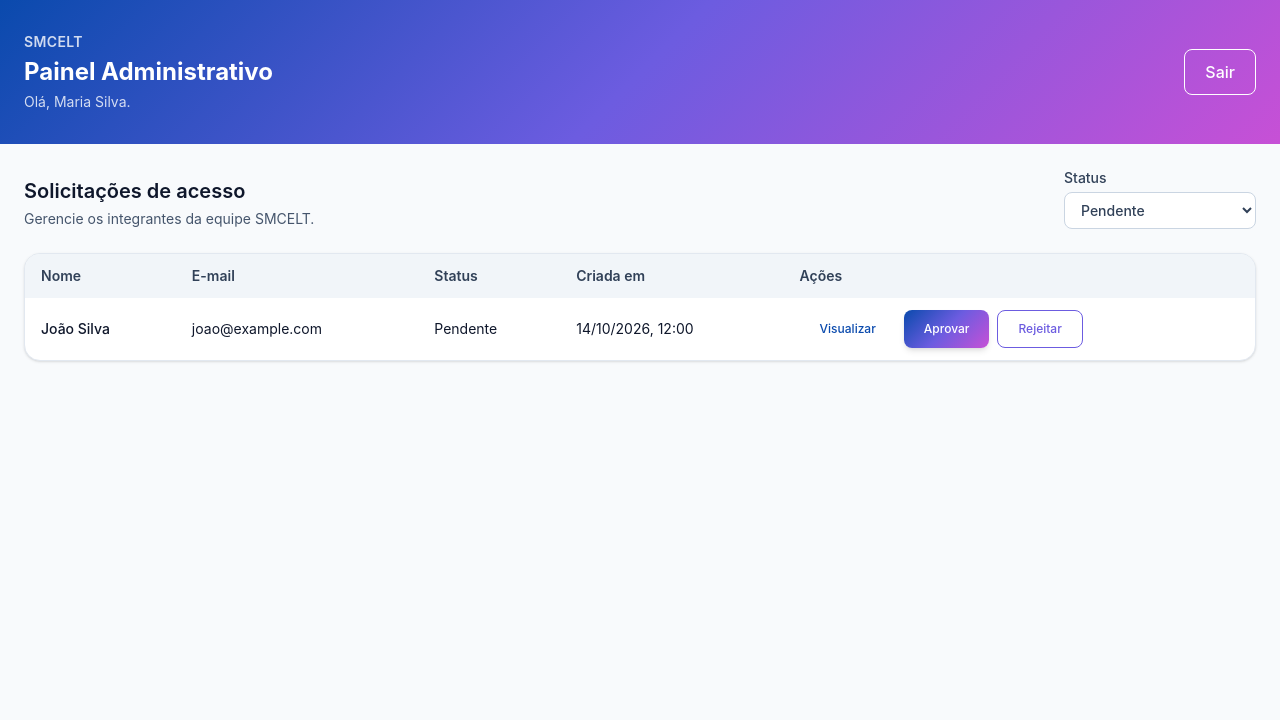
Test case: AdminPage › carrega solicitações pendentes e permite visualizar os detalhes
This screenshot has width=1280, height=720.
Expected: the text "João Silva" is shown, [25,298,176,360]
Click the button "Visualizar": x=848, y=329 [800,310,896,348]
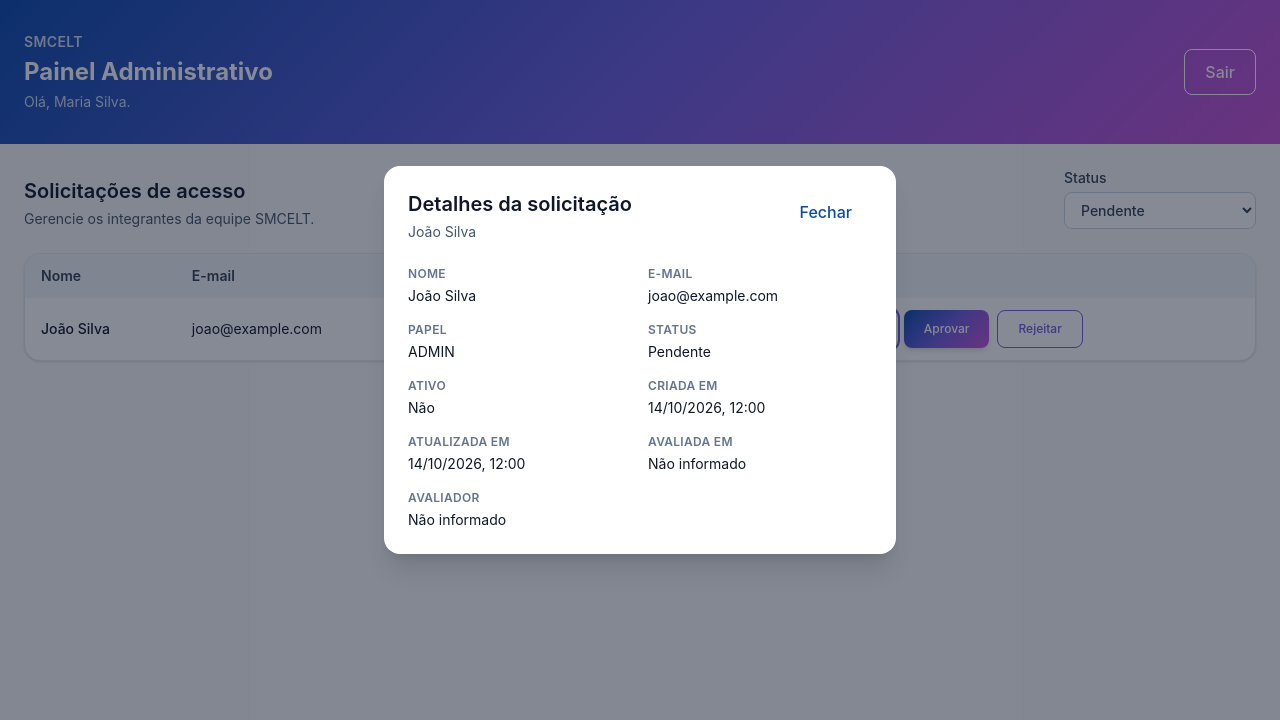
Result: the dialog shows "joao@example.com" at [648,287,778,304]
Result: the button with aria-label "Fechar detalhes" is shown at [780,190,872,234]
